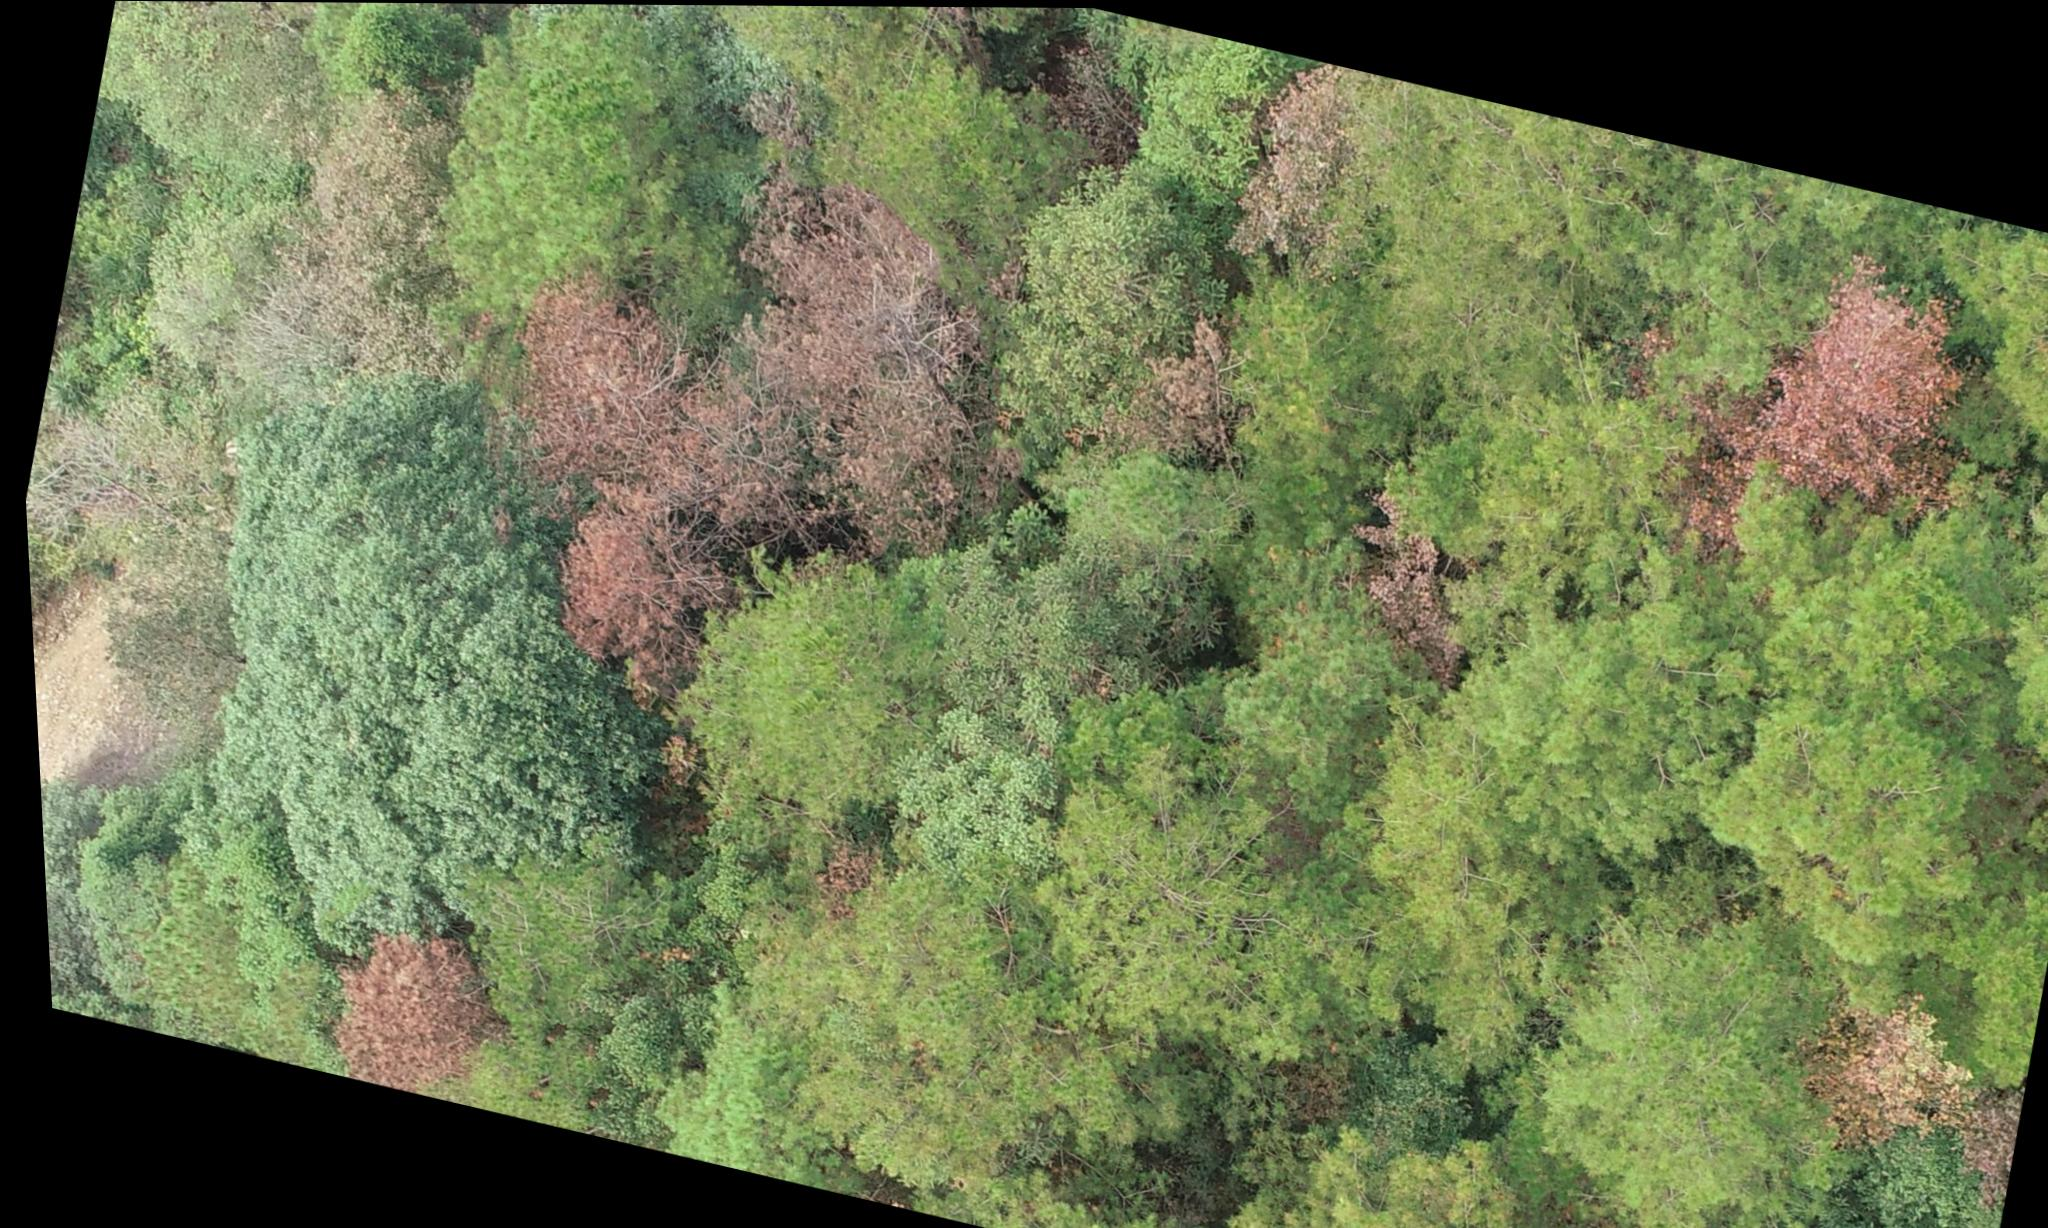heavy: (420, 96, 1034, 721), (1566, 203, 2016, 646), (1250, 471, 1501, 699), (285, 901, 525, 1113), (1734, 974, 1976, 1180)
